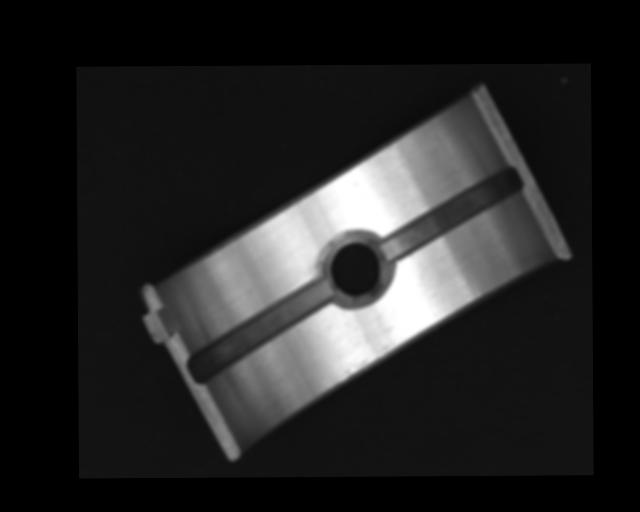gap: (187, 278, 331, 387), (380, 166, 521, 260)
hole: (326, 228, 385, 303)
